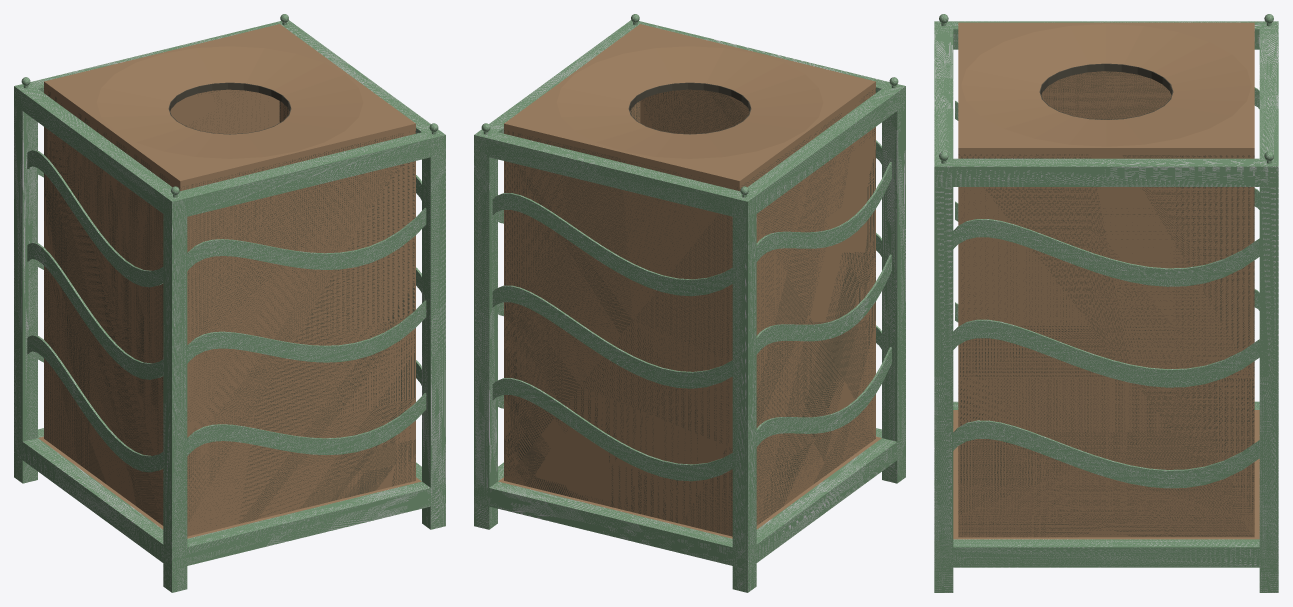
3 renders of one model, left to right at view 1: azimuth 30°, elevation 25°; view 2: azimuth 150°, elevation 25°; view 3: azimuth 270°, elevation 25°, orthographic. The views are drawn at different scales.
Visible parts, largest first — view 1: mesh6.001_mesh6-geometry, mesh14.004_mesh14-geometry, mesh14.003_mesh14-geometry, mesh7.007_mesh7-geometry, mesh7.005_mesh7-geometry, mesh7.008_mesh7-geometry, mesh13.018_mesh13-geometry, mesh13.017_mesh13-geometry, mesh13.016_mesh13-geometry, mesh13.020_mesh13-geometry, mesh13.021_mesh13-geometry, mesh13.019_mesh13-geometry (+1 smaller); view 2: mesh6.001_mesh6-geometry, mesh14.004_mesh14-geometry, mesh14.003_mesh14-geometry, mesh7.008_mesh7-geometry, mesh7.006_mesh7-geometry, mesh7.007_mesh7-geometry, mesh12.008_mesh12-geometry, mesh12.007_mesh12-geometry, mesh12.009_mesh12-geometry, mesh13.020_mesh13-geometry, mesh13.021_mesh13-geometry, mesh13.019_mesh13-geometry (+1 smaller); view 3: mesh6.001_mesh6-geometry, mesh14.004_mesh14-geometry, mesh14.003_mesh14-geometry, mesh7.006_mesh7-geometry, mesh7.005_mesh7-geometry, mesh13.014_mesh13-geometry, mesh13.013_mesh13-geometry, mesh13.015_mesh13-geometry, mesh1.001_mesh1-geometry.
Part boxes in pixels (x1,y1,x2,y2): mesh6.001_mesh6-geometry: (38,24,421,538); mesh14.004_mesh14-geometry: (14,20,445,219); mesh14.003_mesh14-geometry: (14,428,445,569); mesh7.007_mesh7-geometry: (163,193,187,592); mesh7.005_mesh7-geometry: (422,130,445,529); mesh7.008_mesh7-geometry: (14,83,37,483); mesh13.018_mesh13-geometry: (187,207,426,270); mesh13.017_mesh13-geometry: (187,300,426,363); mesh13.016_mesh13-geometry: (187,393,426,455); mesh13.020_mesh13-geometry: (27,242,163,379); mesh13.021_mesh13-geometry: (27,149,163,287); mesh13.019_mesh13-geometry: (27,335,163,472); mesh6.001_mesh6-geometry: (498,24,881,538); mesh14.004_mesh14-geometry: (474,20,905,220); mesh14.003_mesh14-geometry: (474,428,905,569); mesh7.008_mesh7-geometry: (732,192,756,592); mesh7.006_mesh7-geometry: (474,130,497,529); mesh7.007_mesh7-geometry: (882,85,905,483); mesh12.008_mesh12-geometry: (492,285,732,388); mesh12.007_mesh12-geometry: (492,378,732,481); mesh12.009_mesh12-geometry: (492,193,732,296); mesh13.020_mesh13-geometry: (756,254,891,354); mesh13.021_mesh13-geometry: (756,162,891,261); mesh13.019_mesh13-geometry: (756,347,891,446); mesh6.001_mesh6-geometry: (953,22,1259,539); mesh14.004_mesh14-geometry: (934,21,1278,186); mesh14.003_mesh14-geometry: (934,401,1278,567); mesh7.006_mesh7-geometry: (1259,158,1278,592); mesh7.005_mesh7-geometry: (934,159,953,592); mesh13.014_mesh13-geometry: (953,319,1259,387); mesh13.013_mesh13-geometry: (953,420,1259,488); mesh13.015_mesh13-geometry: (953,219,1259,286); mesh1.001_mesh1-geometry: (1039,63,1173,119).
Bounding box in the file's own units: 0.5026 × 0.7035 × 0.5026.
